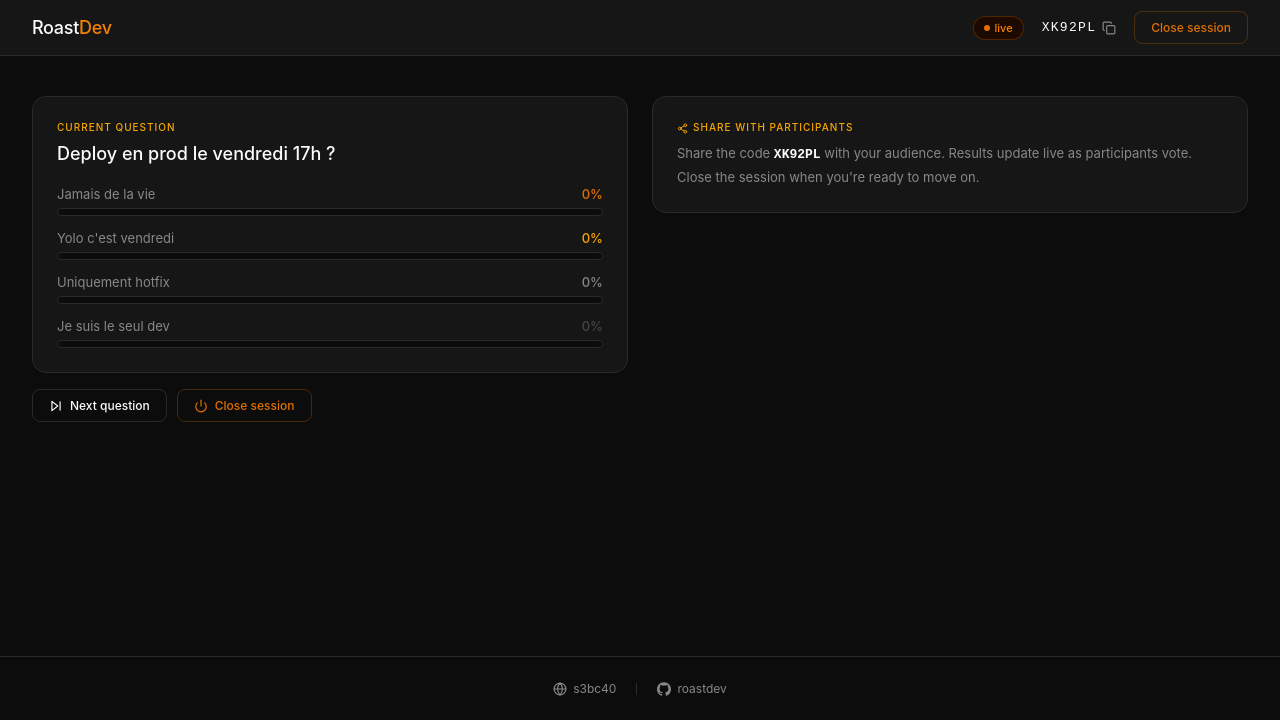
Host › opens the confirm modal when Close session is clicked
This screenshot has width=1280, height=720.
Step 1. Click the button with aria-label "close session" → click(72, 28), box [32,17,112,38]
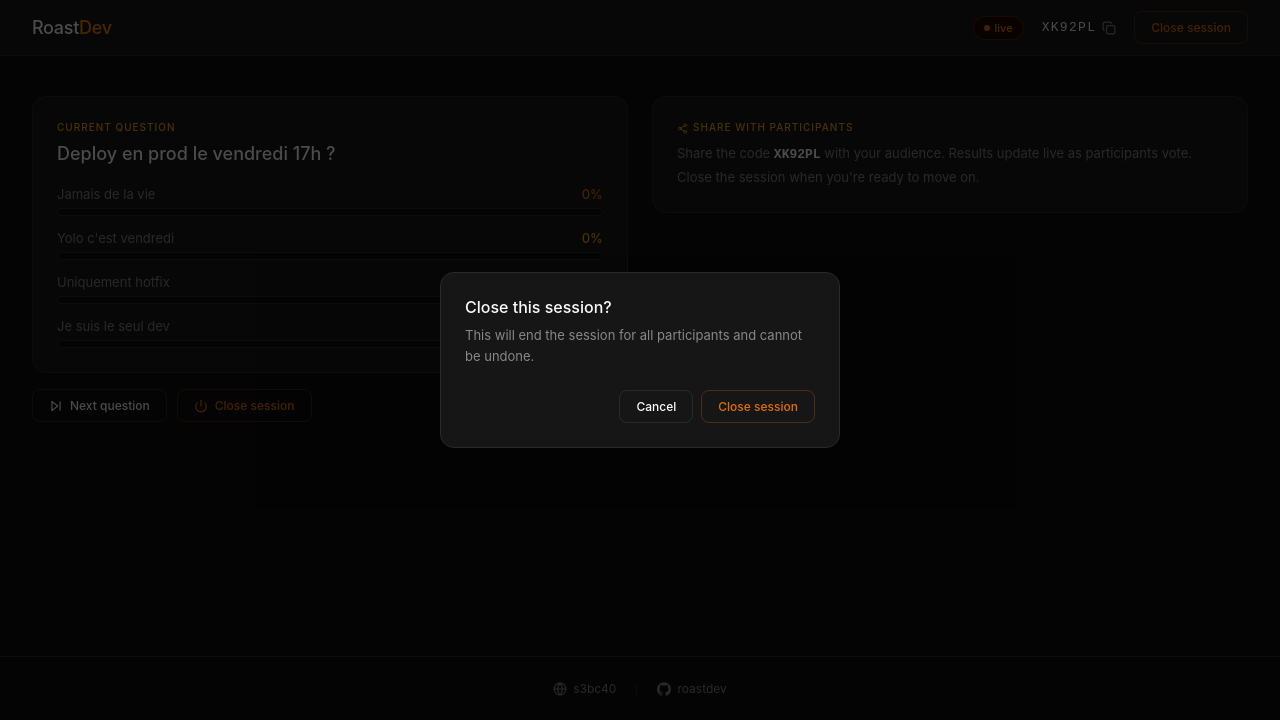
Expected: the dialog is shown, [440,272,840,448]
Expected: the heading "Close this session?" is shown, [465,297,612,317]
